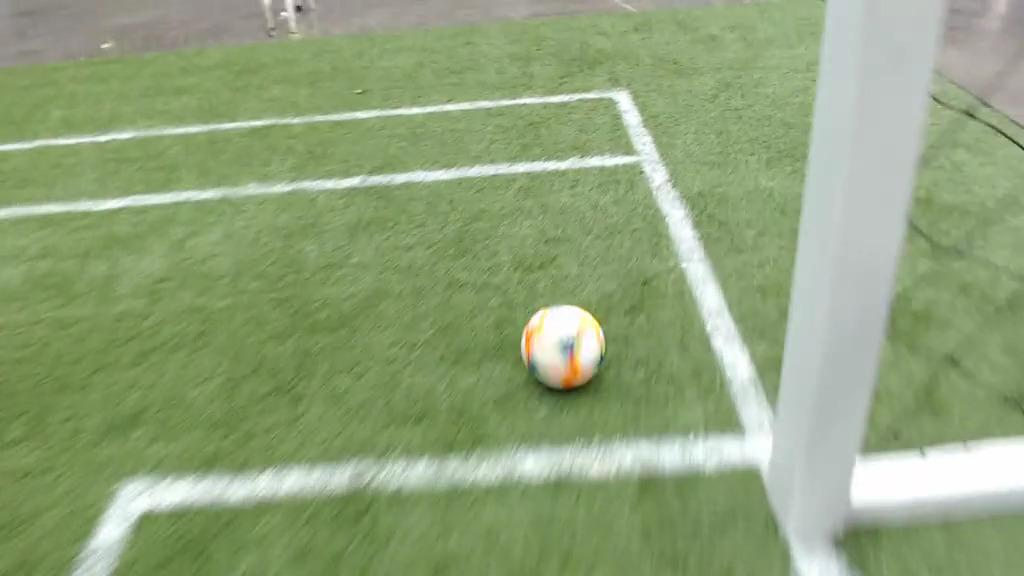ball: (521, 305, 605, 389)
